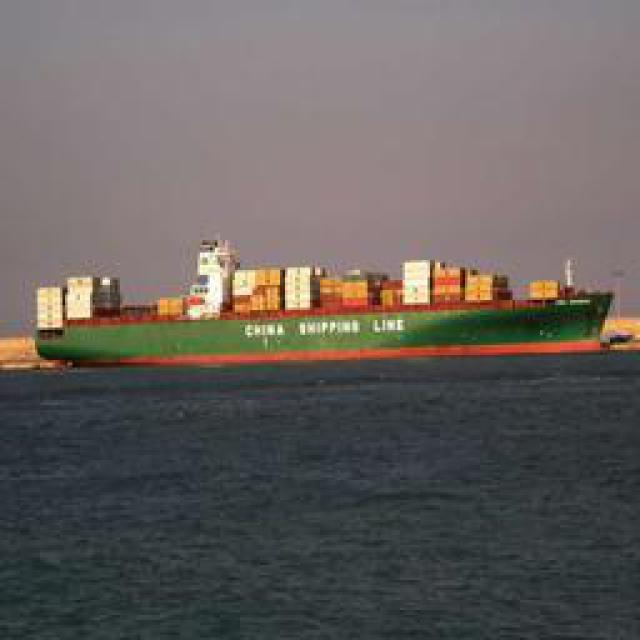Ship: (34, 246, 614, 369)
